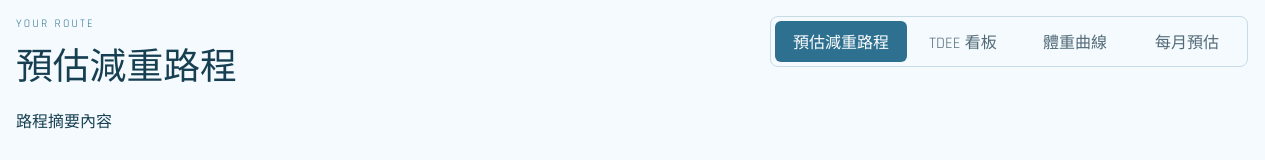
Scenario: ProjectionPanel tabs › supports custom content tabs before the projection views
Expected: the heading "預估減重路程" is shown, top-left (16, 36), bottom-right (237, 92)
Expected: the text "路程摘要內容" is shown, top-left (16, 112), bottom-right (112, 133)
Click the tab "TDEE 看板": (963, 42) top-left (907, 21), bottom-right (1019, 62)
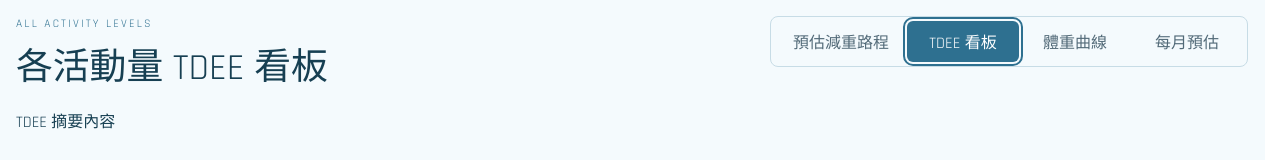
Now the text "TDEE 摘要內容" is shown, box top-left (16, 112), bottom-right (115, 133)
Click the tab "體重曲線": (1075, 42) top-left (1019, 21), bottom-right (1131, 62)
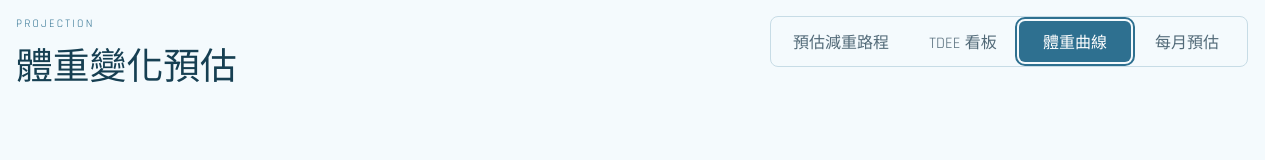
Expected: the text "路程摘要內容" is not shown
Now the text "TDEE 摘要內容" is gone
